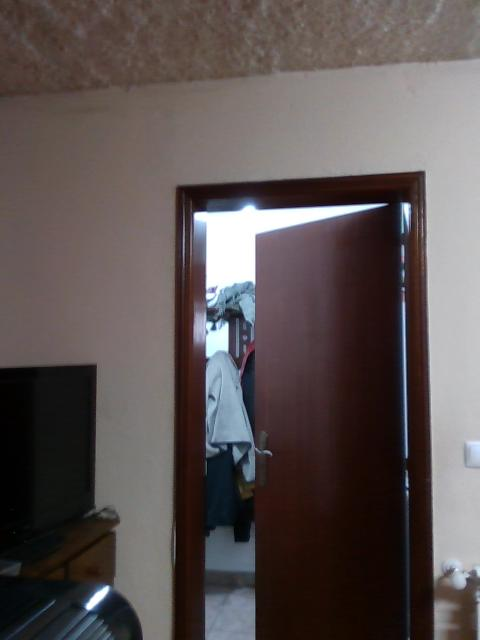semi_door: (173, 171, 435, 639)
